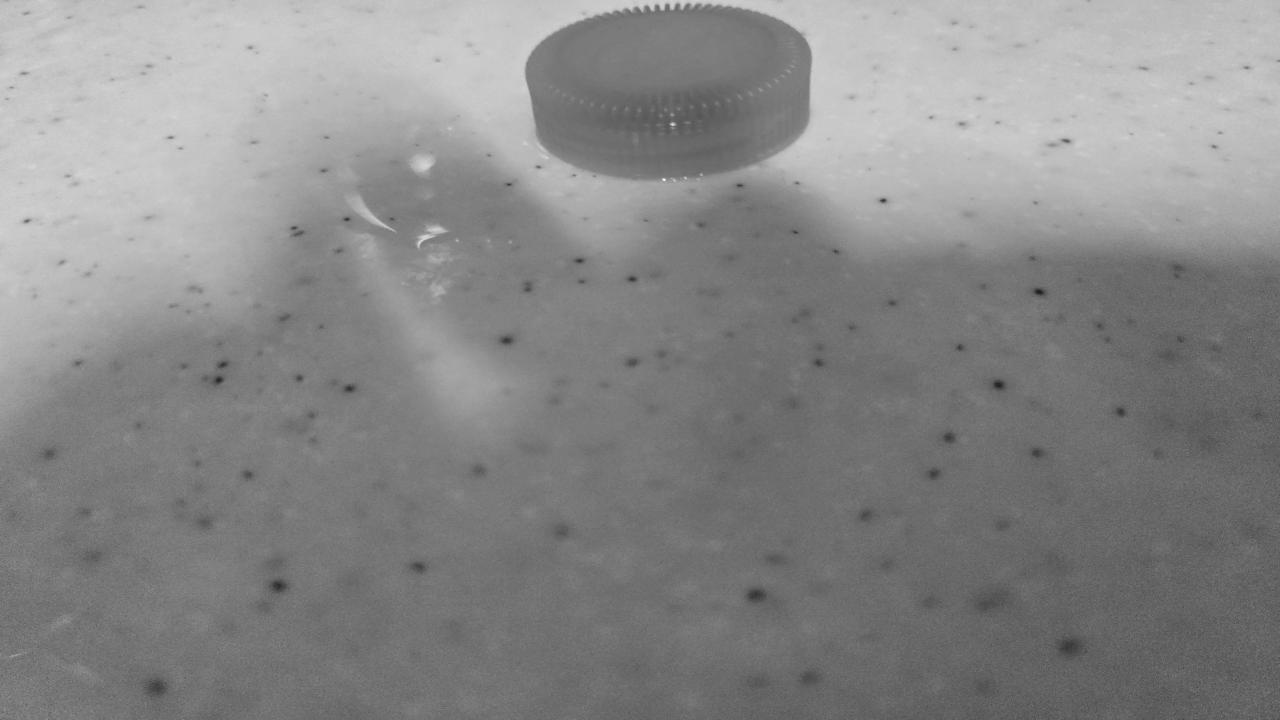bottle_cap: (519, 4, 812, 182)
